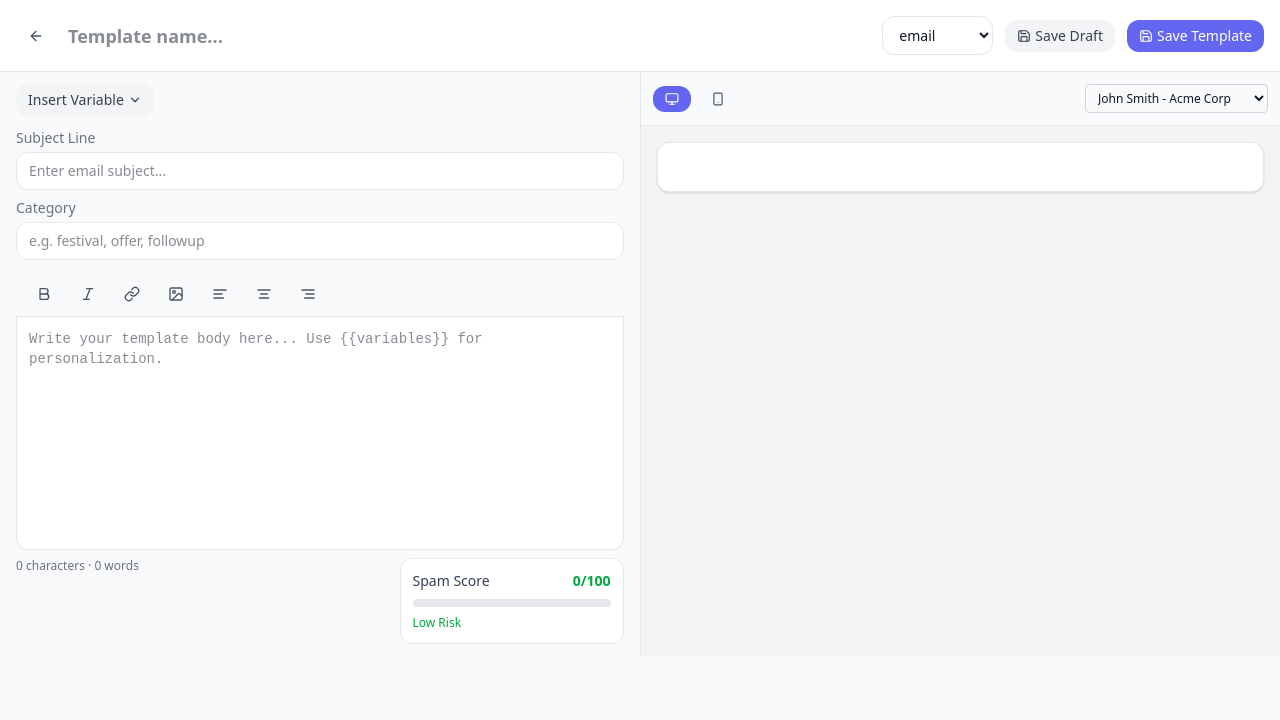
Test case: TemplateEditor › shows character and word count
This screenshot has width=1280, height=720.
Type "Hello world" into the text box with test id "template-body-input".
click(320, 434); type("Hello world")  # box [16,317,624,550]
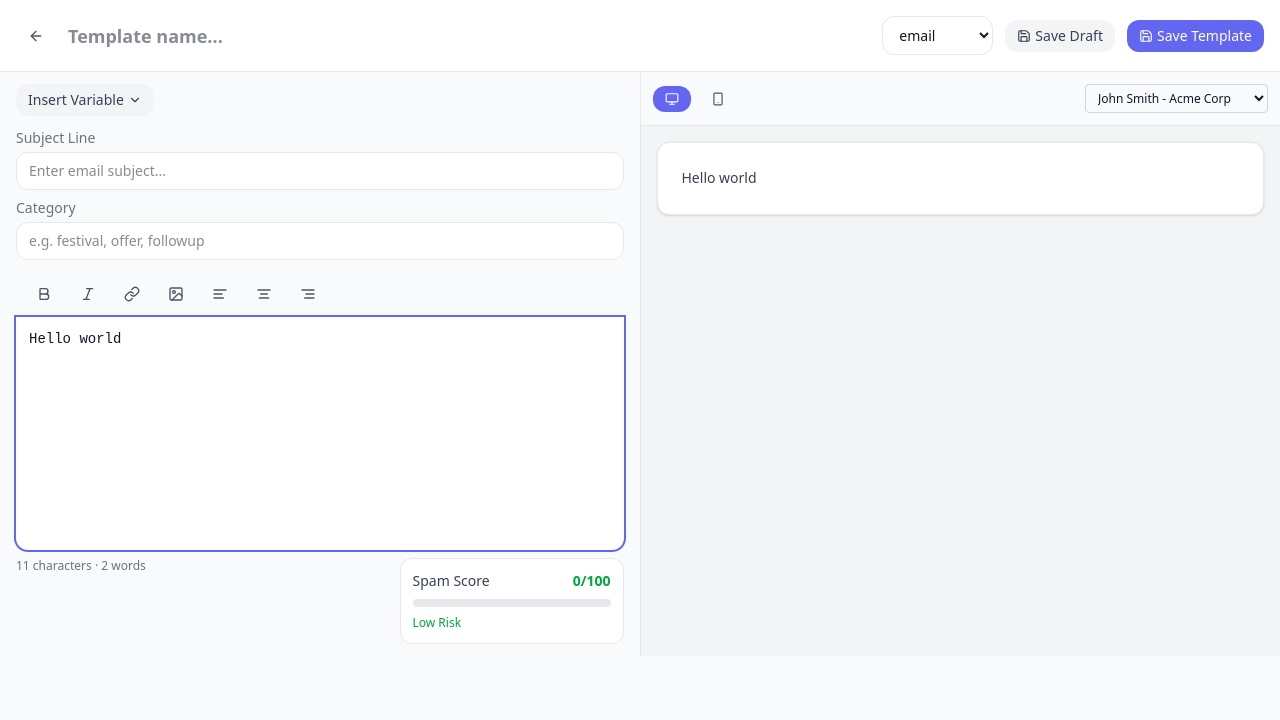
Result: the text "11 characters · 2 words" is shown at [16,557,146,574]
